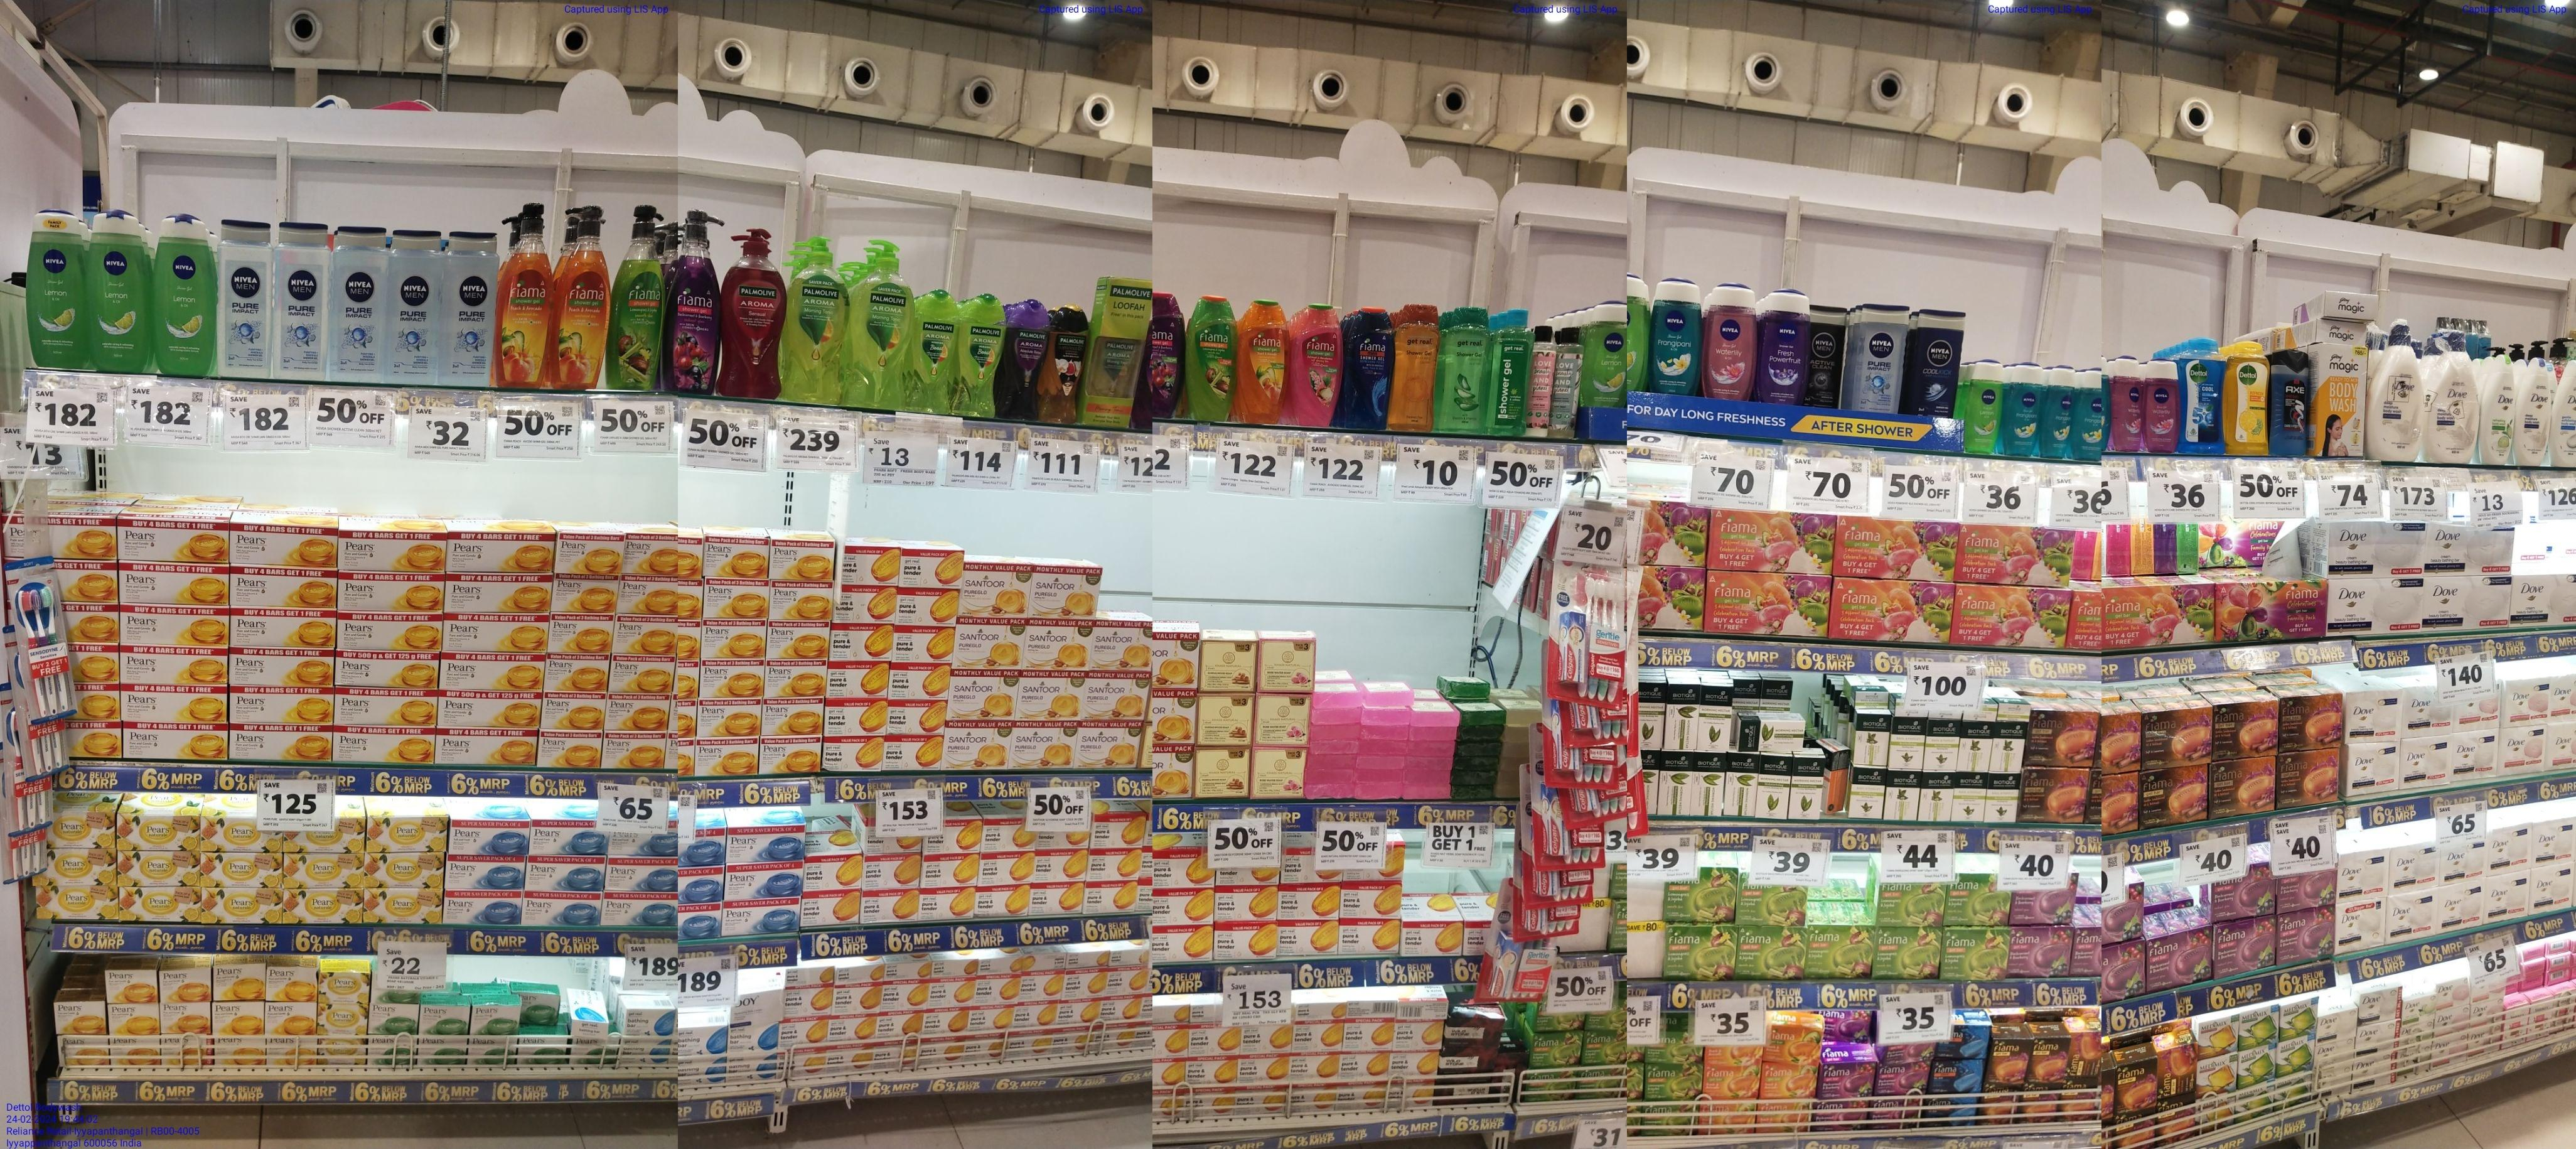Dettol_Bodywash_Cool: (2182, 340, 2224, 457)
Dettol_Bodywash_Refresh: (2231, 342, 2269, 454)
Fiama_Shower_Gel_Lemongrass_and_Jojoba_250ML: (1188, 296, 1234, 421)
Fiama_Shower_Gel_Patchouli_and_Macadamia_250ML: (1296, 304, 1342, 427)
Fiama_Shower_Gel_Peach_and_Avocado_250ML: (1240, 299, 1285, 424)
Get_Real_Shower_Gel_Moisturising_Glycerin_300ML: (1393, 304, 1439, 434)
Nivea_Shower_Gel_Frangipani_and_Oil_250ML: (1653, 278, 1700, 395)
Nivea_Shower_Gel_Fresh_Powerfruit_250ML: (1763, 291, 1810, 404)
Nivea_Shower_Gel_Lemon_and_Oil_250ML: (90, 214, 153, 373), (159, 217, 215, 380), (28, 212, 82, 368)
Nivea_Shower_Gel_Waterlily_and_Oil_250ML: (1710, 284, 1756, 399)
Palmolive_Aroma_Morning_Tonic_Shower_Gel_250ML: (959, 294, 1005, 418), (913, 289, 954, 414)
Palmolive_Aroma_Relax_250ML: (1009, 299, 1045, 422)
Palmolive_Luminous_Oils_With_White_Orchid_Shower_Gel_250ML: (1051, 304, 1089, 427)
